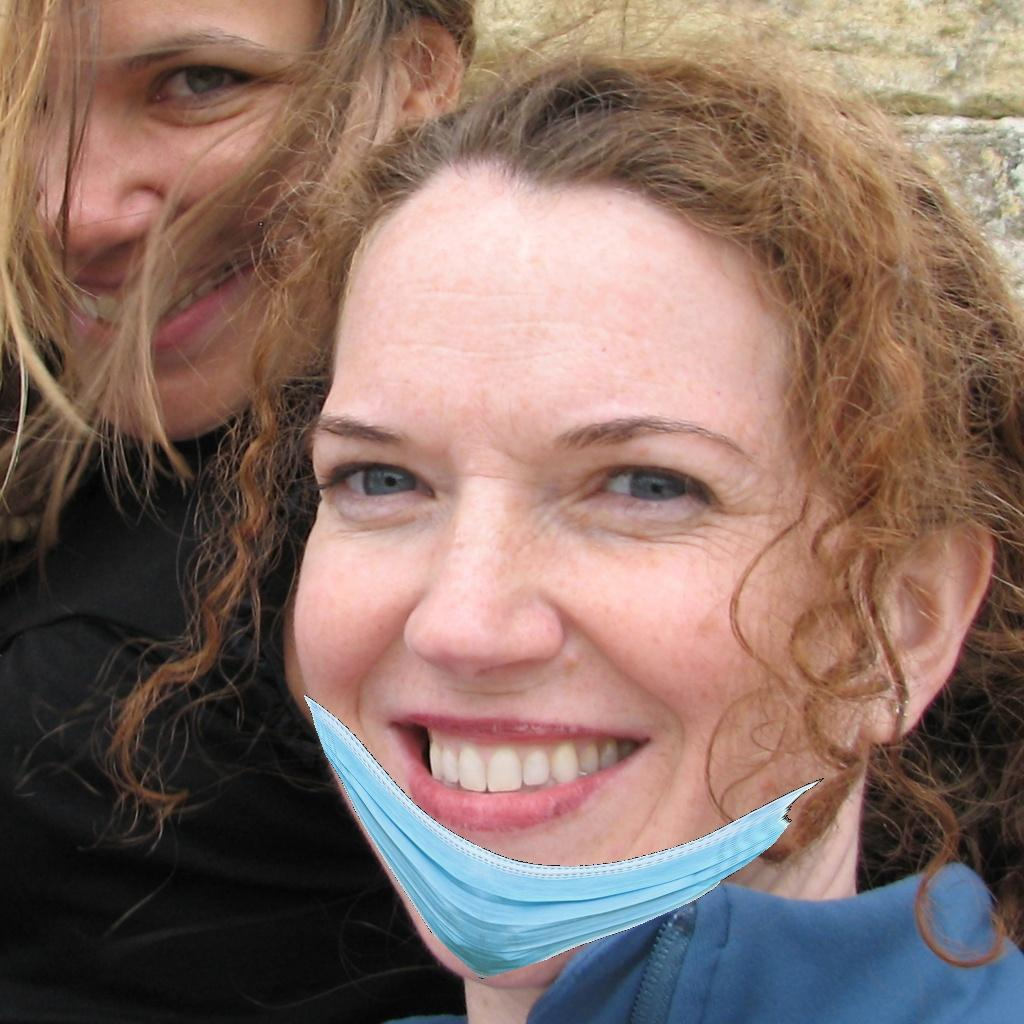Máscara Incorreta: (278, 360, 876, 977)
Sem Máscara: (0, 0, 420, 432)
